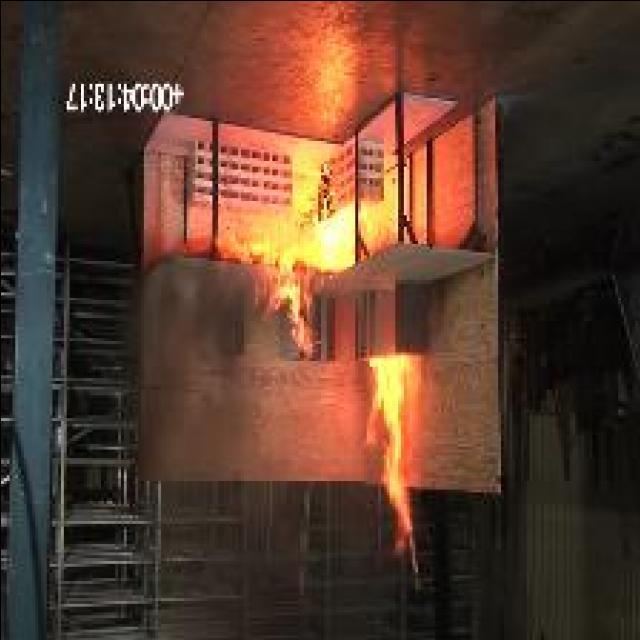Fire: (216, 172, 350, 352), (370, 354, 416, 572)
